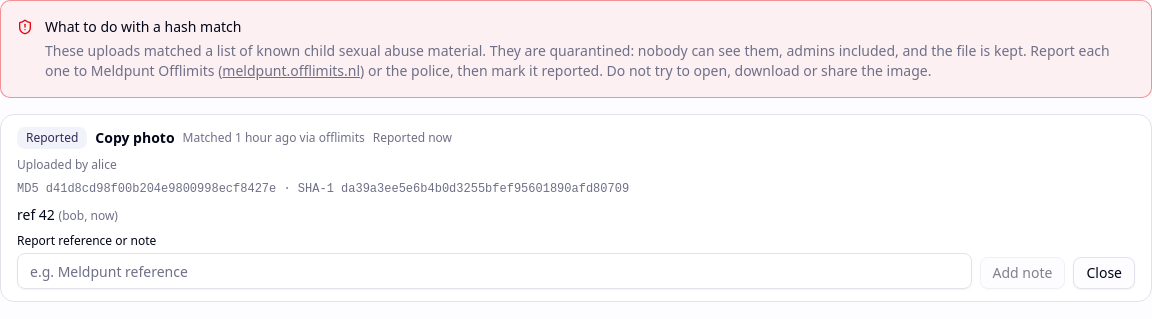
CsamEscalationsPanel › a reported escalation shows its notes and can be closed; a closed one has no actions
Click the button "Close" at coordinates (1104, 273), box x1=1074 y1=257 x2=1135 y2=289
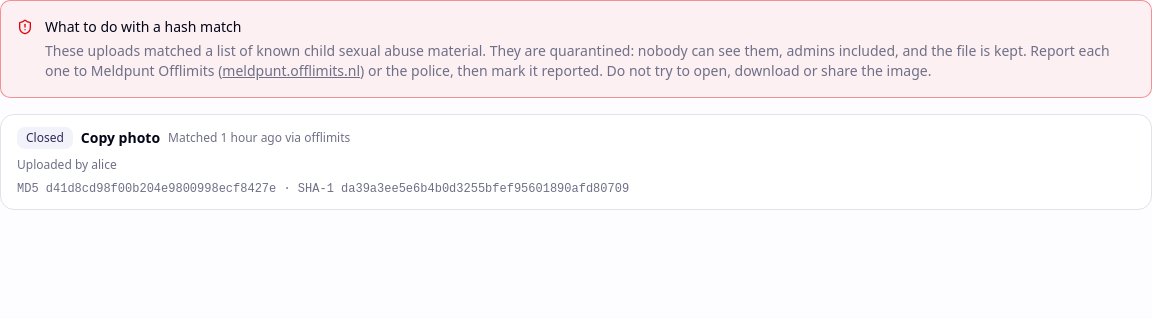
Now no buttons are shown
